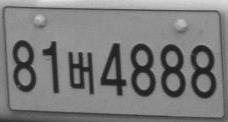1: (40, 40, 64, 93)
4: (99, 42, 126, 96)
8: (159, 42, 186, 97), (189, 44, 216, 99), (129, 42, 156, 96), (11, 38, 37, 93)
버: (67, 51, 95, 95)
